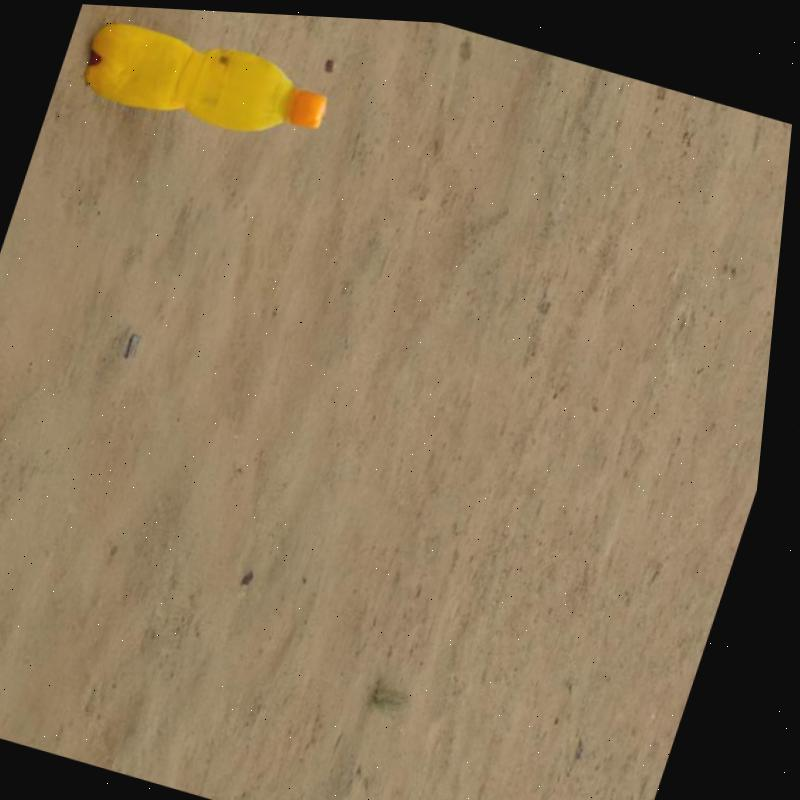botella: (68, 3, 348, 159)
